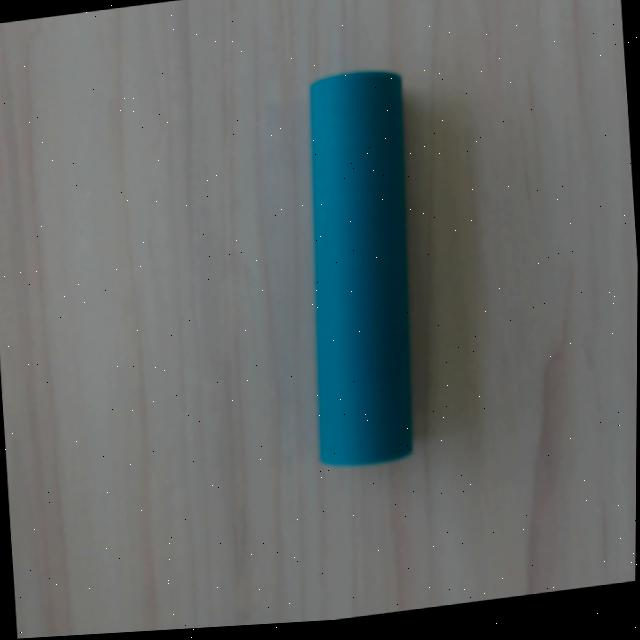Silinder-Hijau-10025: (309, 69, 412, 464)
